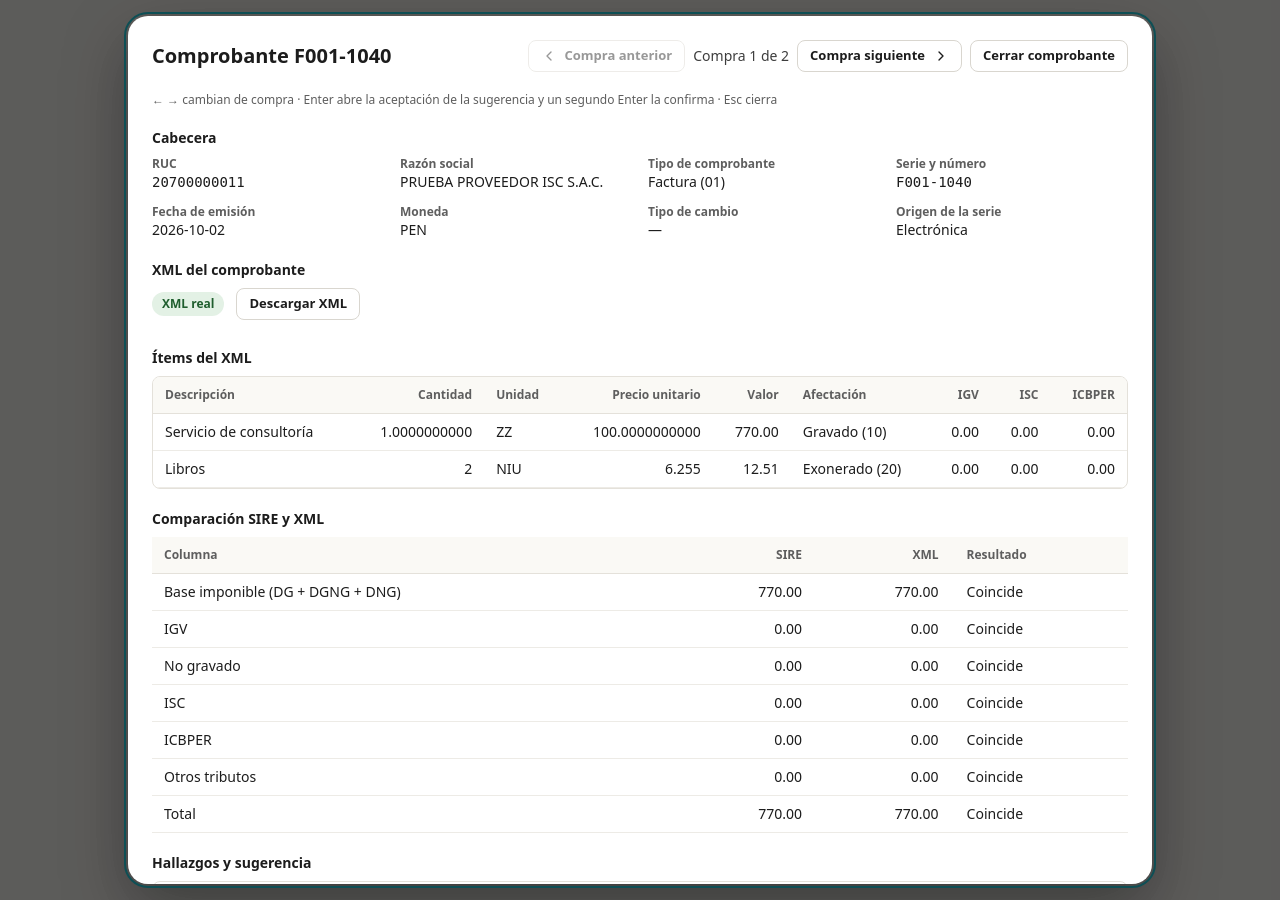
Test: Lupa · teclado y navegación (CA-15) › error: si el detalle de la vecina no existe (404) lo dice, y al volver la anterior sigue bien
expect the element "Cabecera" is shown: met, box x1=152 y1=128 x2=1128 y2=240
Click the button "Compra siguiente": (880, 56) x1=797 y1=40 x2=962 y2=72
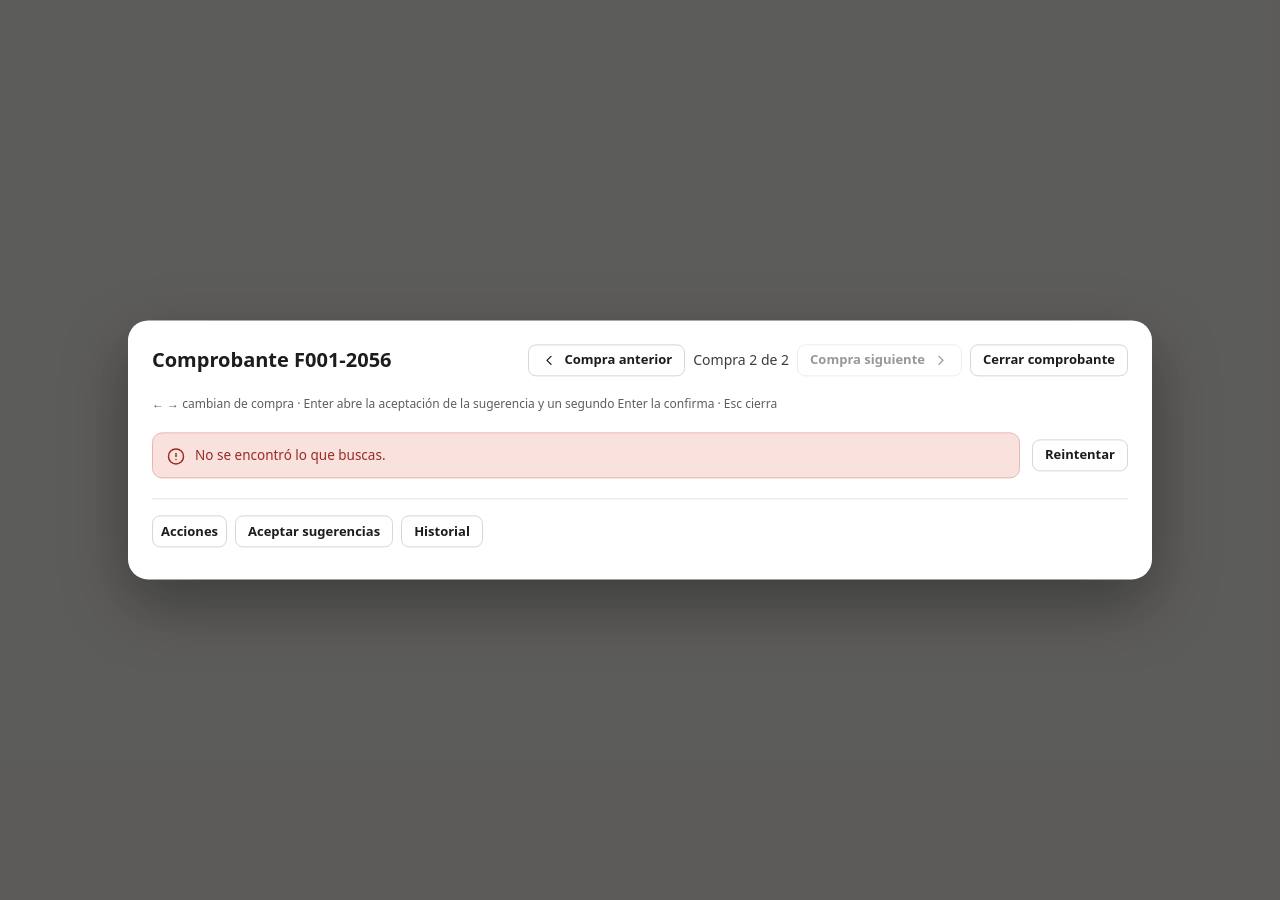
expect the message reads "No se encontró lo que buscas.": met, box x1=195 y1=446 x2=386 y2=464
expect the heading "Cabecera" is gone: met
Click the button "Compra anterior": (606, 360) x1=528 y1=344 x2=685 y2=376
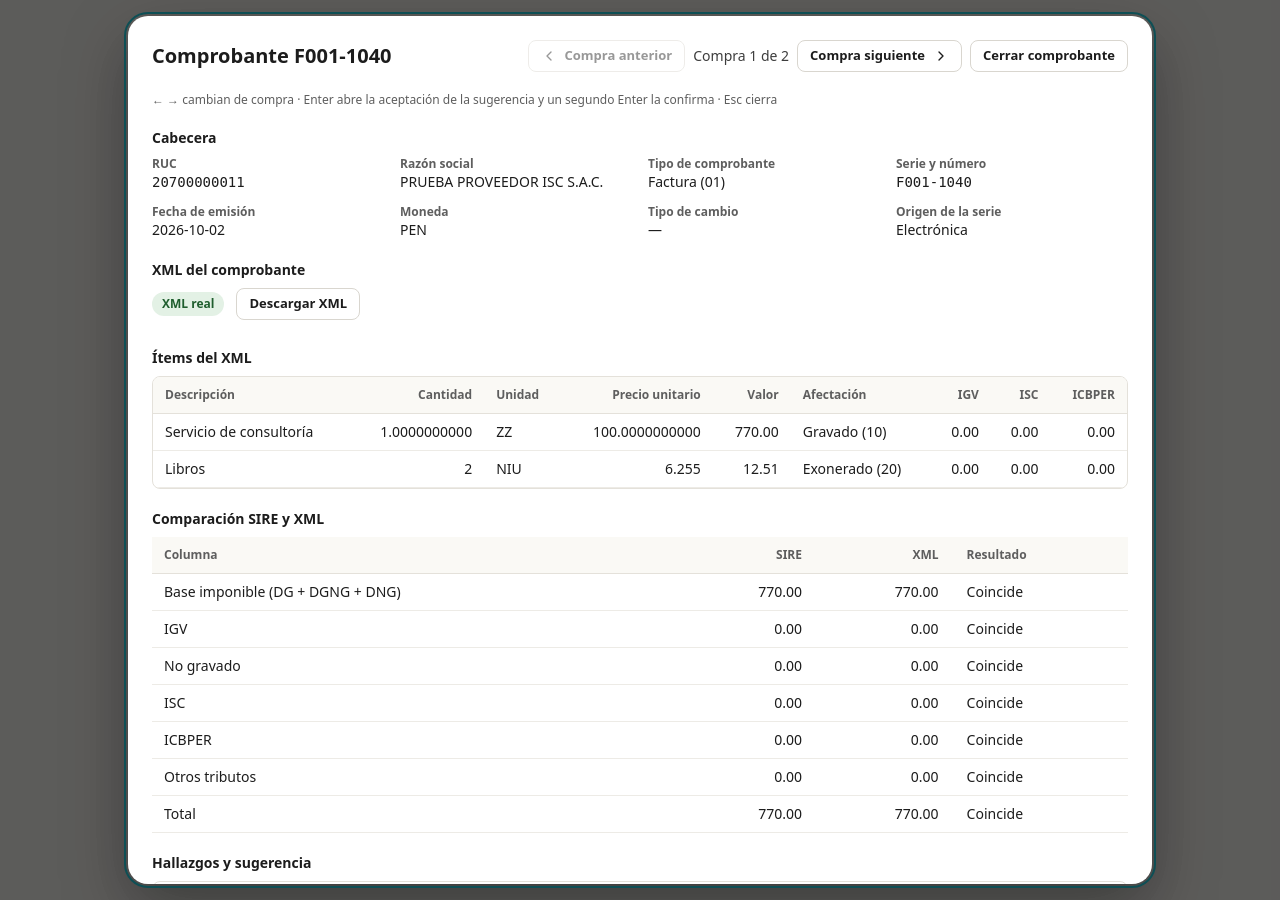
expect the element "Cabecera" is shown: met, box x1=152 y1=128 x2=1128 y2=240
